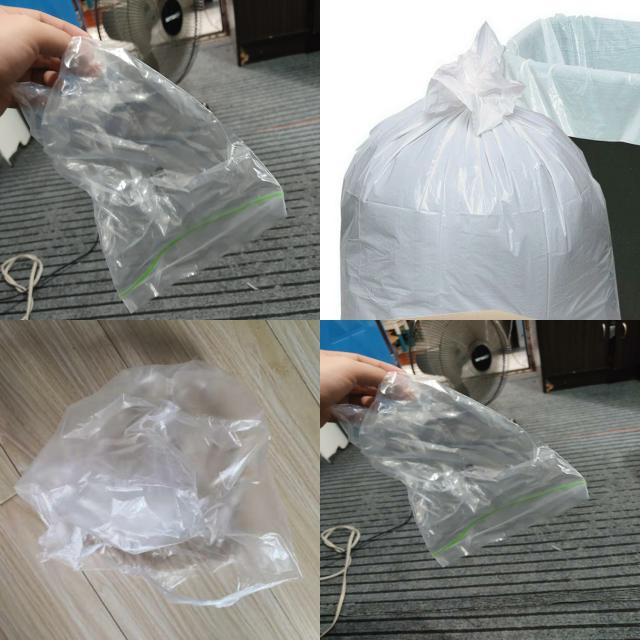Single-layer Plastic: (341, 24, 620, 319), (12, 36, 286, 312), (16, 360, 300, 606), (334, 372, 589, 565), (504, 15, 640, 144)
